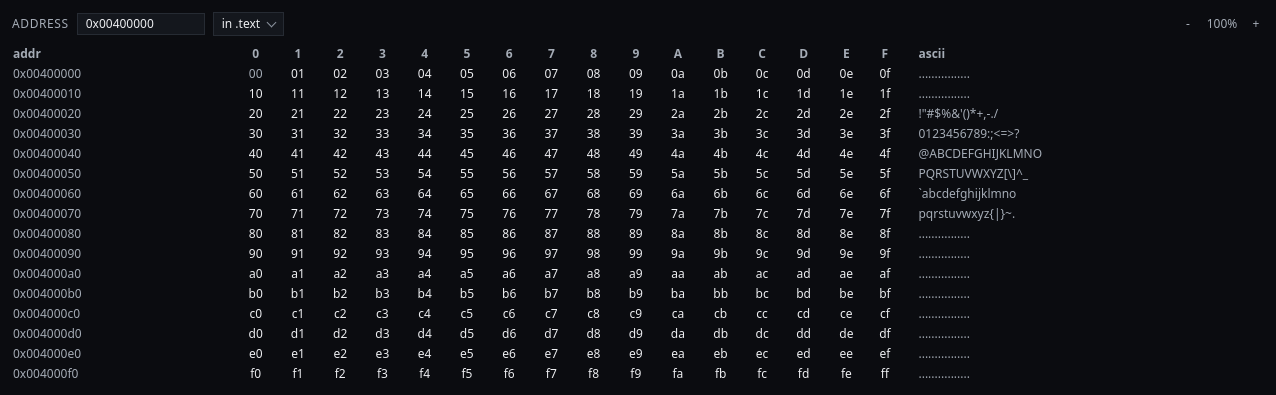
MemoryPanel region label › follows a jump to another section
The image size is (1276, 395).
Click the dropdown named "jump to section" at (248, 24), box [213,12,284,36]
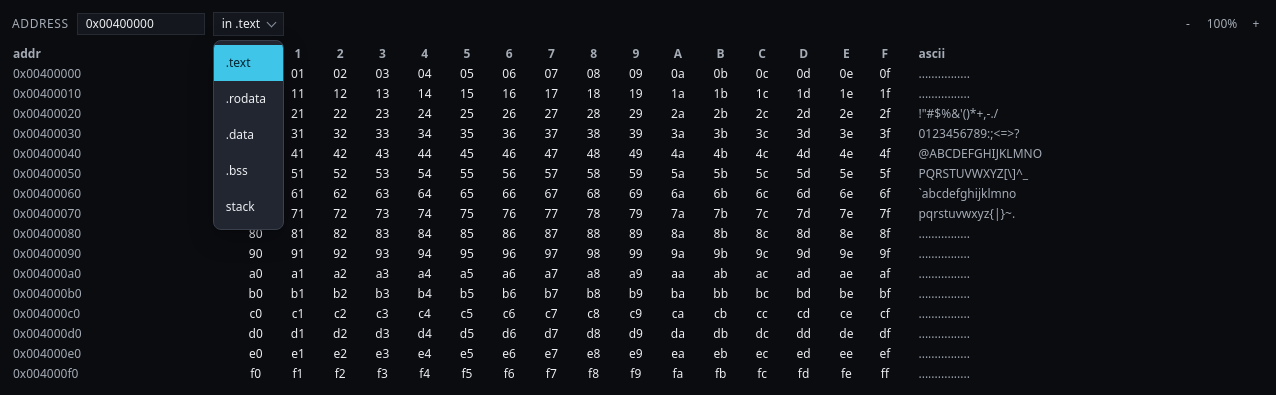
Press the mouse on the option ".bss" at (237, 170), box [226,162,248,179]
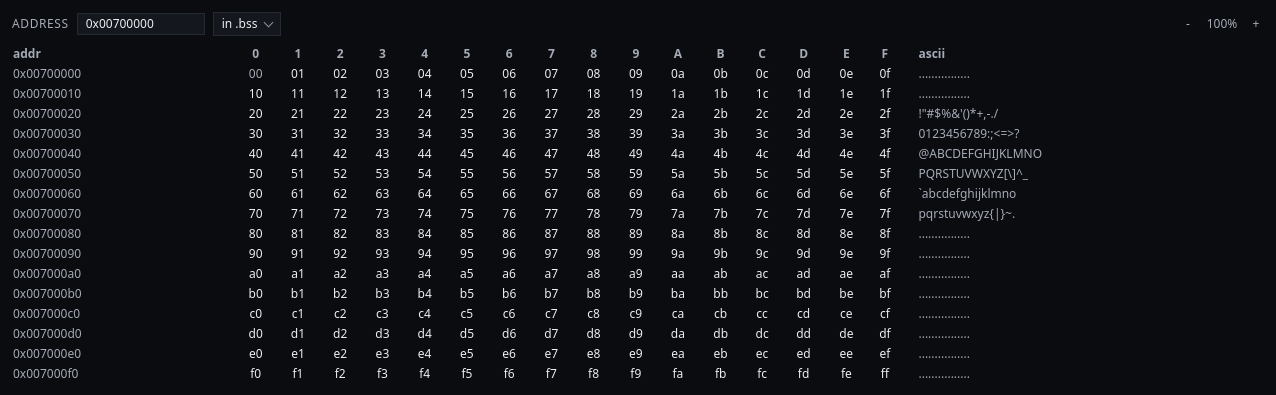
expect the field named "memory base address" holds "0x00700000": met, box [77,13,205,35]
expect the dropdown named "jump to section" reads "in .bss": met, box [213,12,281,36]
